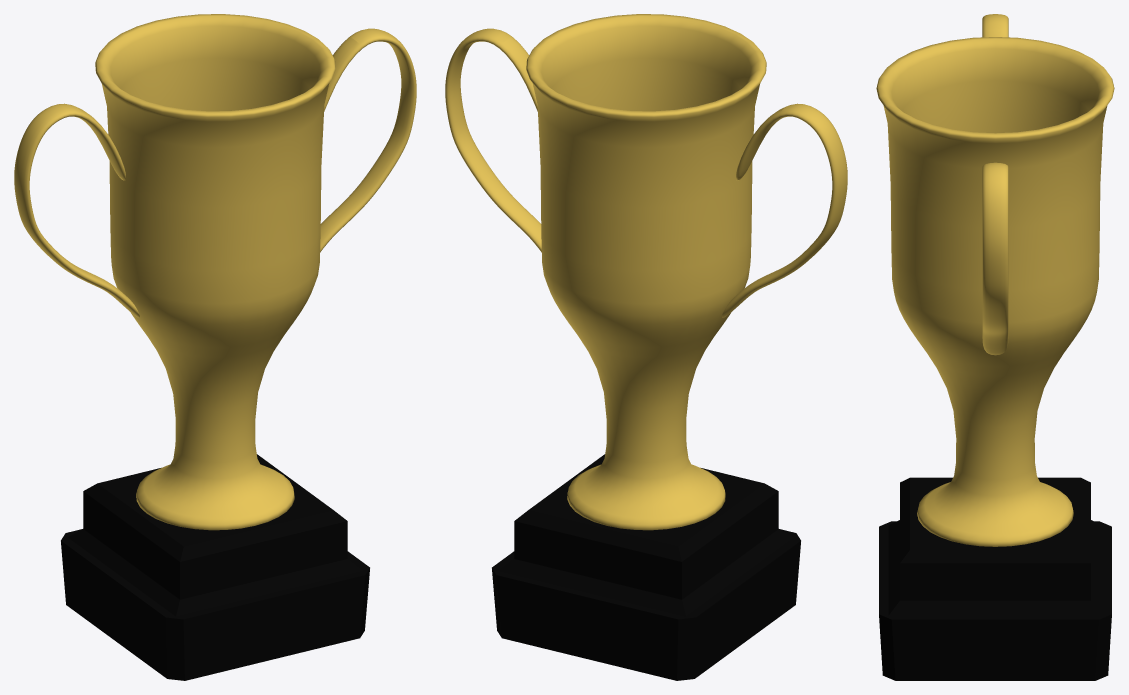
The model's file is puchar3.fbx.
The picture shows the model from 3 angles, left to right: view 1: azimuth 30°, elevation 25°; view 2: azimuth 150°, elevation 25°; view 3: azimuth 270°, elevation 25°; orthographic projection.
Parts seen in each view (by area): view 1: Vert; view 2: Vert; view 3: Vert.
Boxes of the visible parts, x1,y1,x2,y2 form: Vert: (14,14,416,680); Vert: (445,14,847,680); Vert: (876,14,1114,680).
Size of the model in its own units: 553 by 741 by 292.
